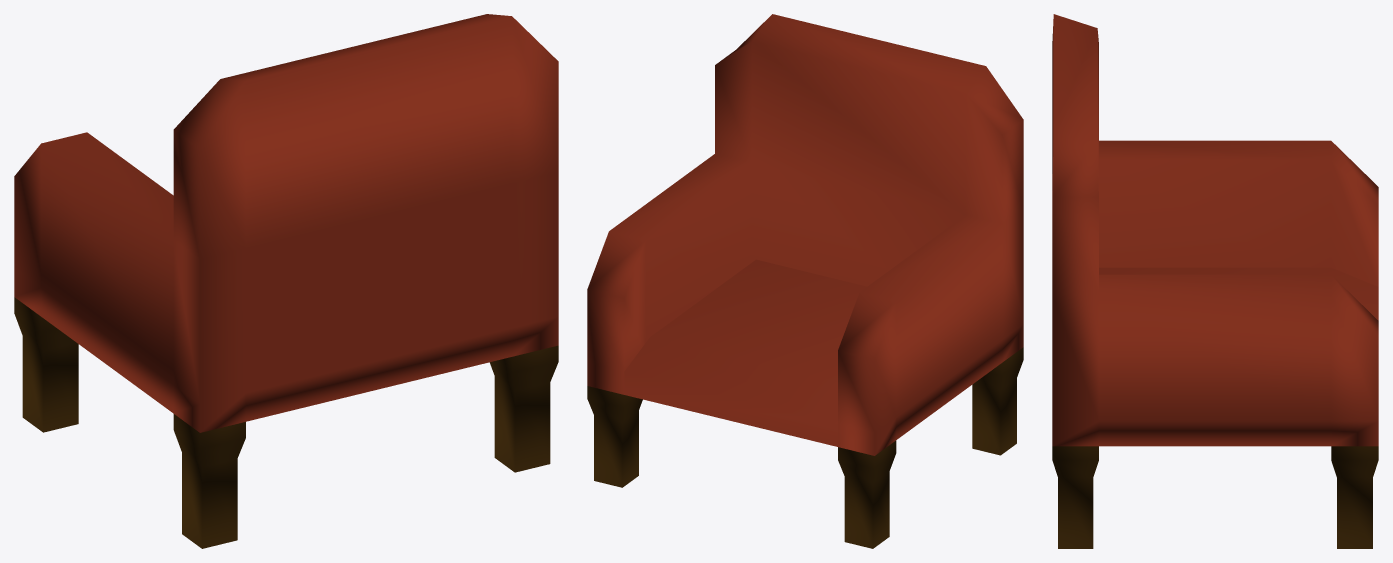
Rendered from chair.fbx.
The picture shows the model from 3 angles, left to right: view 1: azimuth 30°, elevation 25°; view 2: azimuth 150°, elevation 25°; view 3: azimuth 270°, elevation 25°; orthographic projection. The views are drawn at different scales.
Visible parts, largest first — view 1: Cube, Cube.001; view 2: Cube, Cube.001; view 3: Cube, Cube.001.
Part boxes in pixels (<box>): Cube: <box>14,14,558,432</box>; Cube.001: <box>14,297,558,548</box>; Cube: <box>587,14,1023,455</box>; Cube.001: <box>587,347,1023,548</box>; Cube: <box>1052,14,1378,446</box>; Cube.001: <box>1052,446,1378,548</box>.
Bounding box in the file's own units: 780 × 955 × 700.
